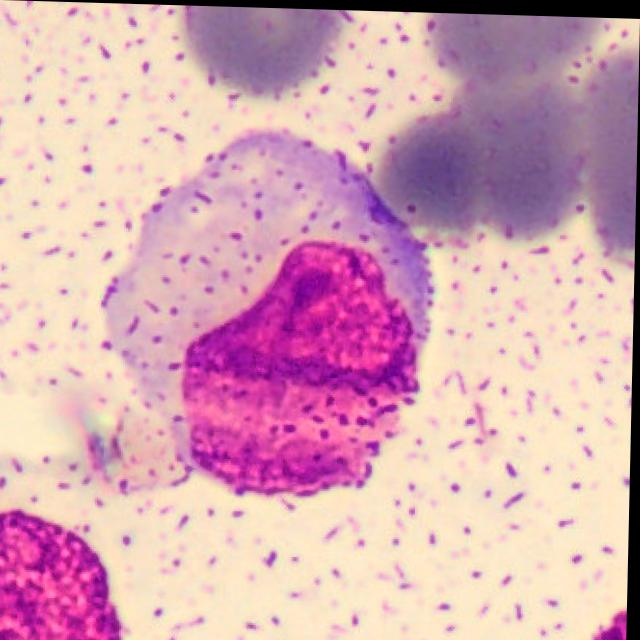Mieloblasto: (113, 132, 432, 497)
